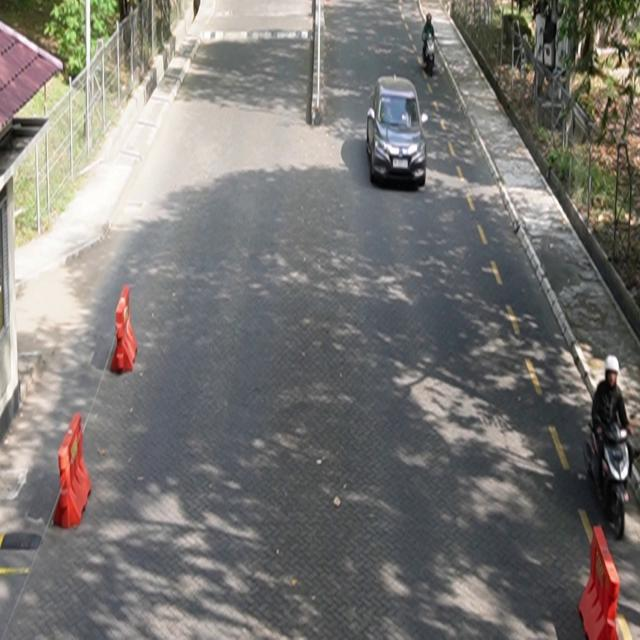car: (367, 74, 429, 189)
